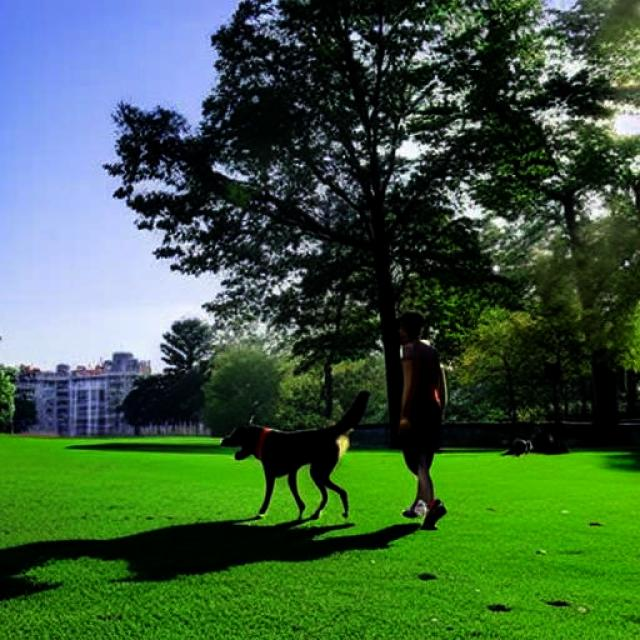Unleashed_Dog: (220, 386, 430, 521)
